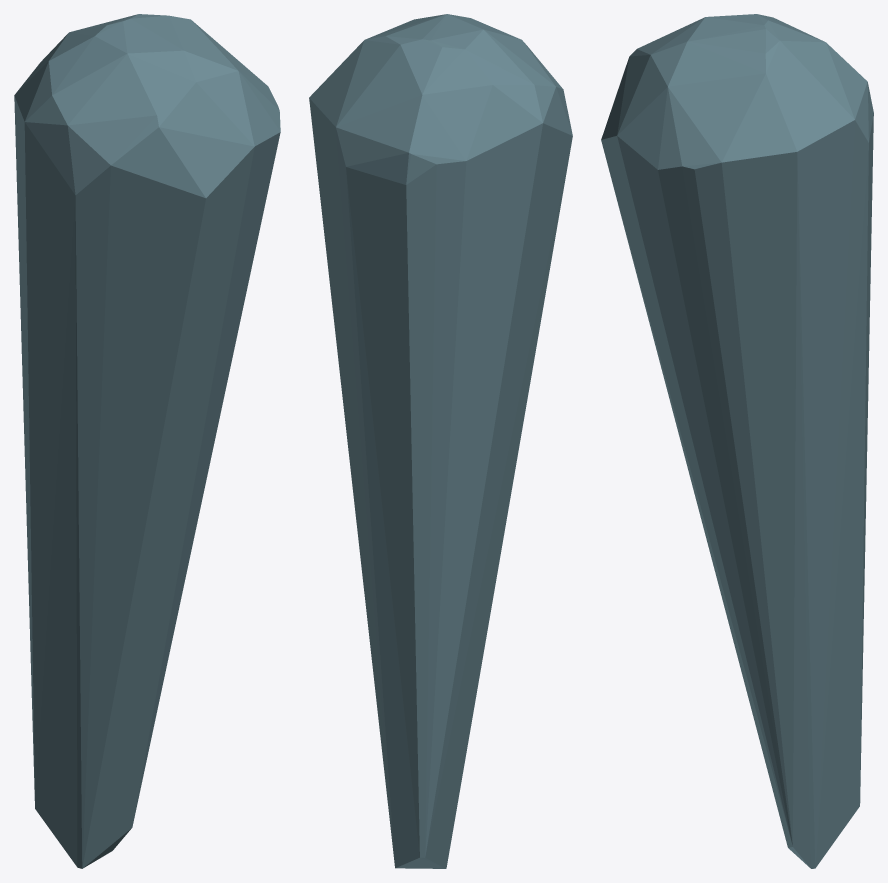
File: kitchenware_ladle_b01.glb
The picture shows the model from 3 angles, left to right: view 1: azimuth 30°, elevation 25°; view 2: azimuth 150°, elevation 25°; view 3: azimuth 270°, elevation 25°; orthographic projection. The views are drawn at different scales.
Visible parts, largest first — view 1: geometry_0; view 2: geometry_0; view 3: geometry_0.
Part boxes in pixels (box(x1,y1,x2,y2)): geometry_0: box(14, 14, 280, 868); geometry_0: box(309, 14, 572, 868); geometry_0: box(601, 14, 873, 868).
Bounding box in the file's own units: 0.1361 × 0.4781 × 0.141.
